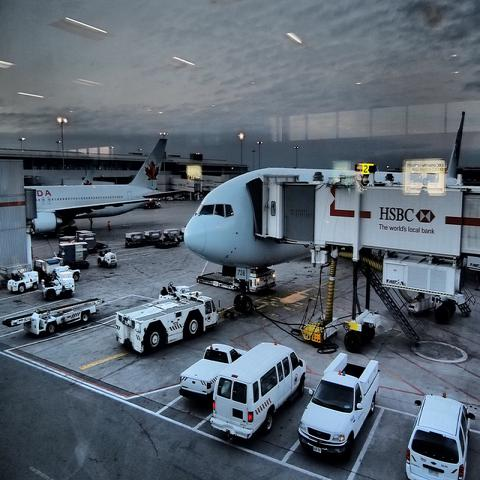car: (209, 340, 306, 439), (405, 391, 479, 479), (7, 270, 39, 293)
truck: (298, 351, 380, 466), (113, 281, 220, 354), (404, 392, 480, 479), (1, 290, 100, 337), (180, 344, 247, 402), (42, 271, 75, 303), (96, 248, 118, 269)
